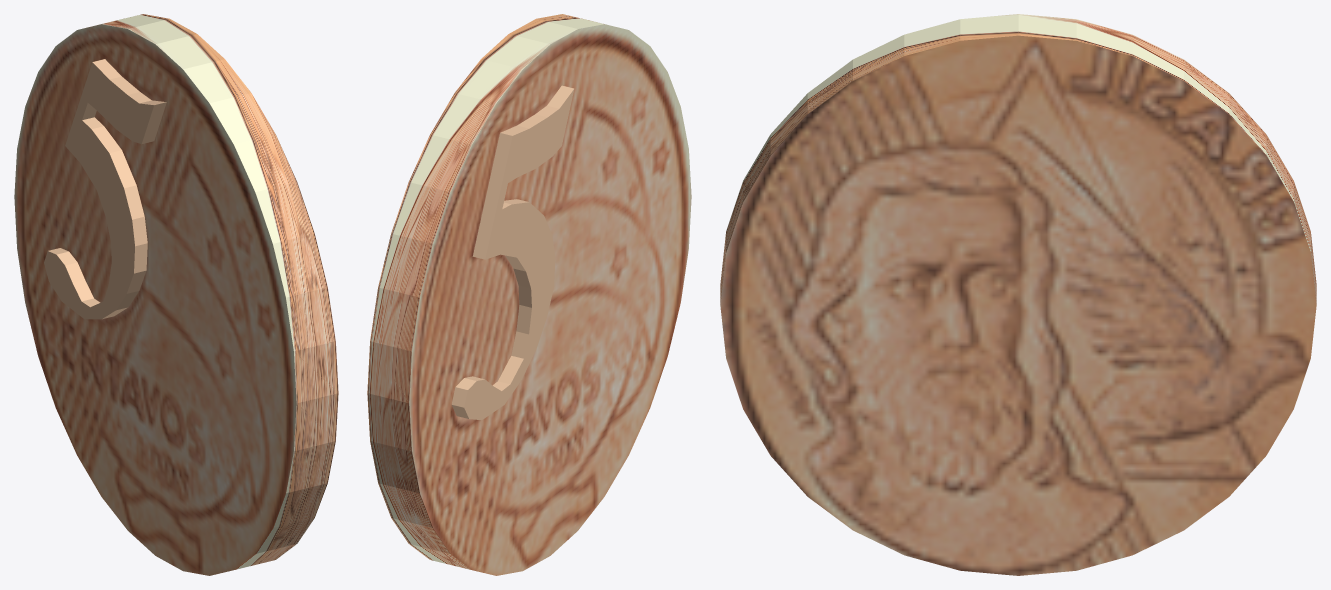
File: coin-005.glb
3 views of the same model, side by side, from view 1: azimuth 30°, elevation 25°; view 2: azimuth 150°, elevation 25°; view 3: azimuth 270°, elevation 25° (orthographic). The views are drawn at different scales.
Parts seen in each view (by area): view 1: Circle.001; view 2: Circle.001; view 3: Circle.001.
Boxes of the visible parts, left/top/right/bottom form: Circle.001: left=14, top=14, right=338, bottom=575; Circle.001: left=367, top=14, right=691, bottom=575; Circle.001: left=720, top=14, right=1316, bottom=575.
Bounding box in the file's own units: 0.2234 × 2 × 2.
2 materials, 1 textured.
